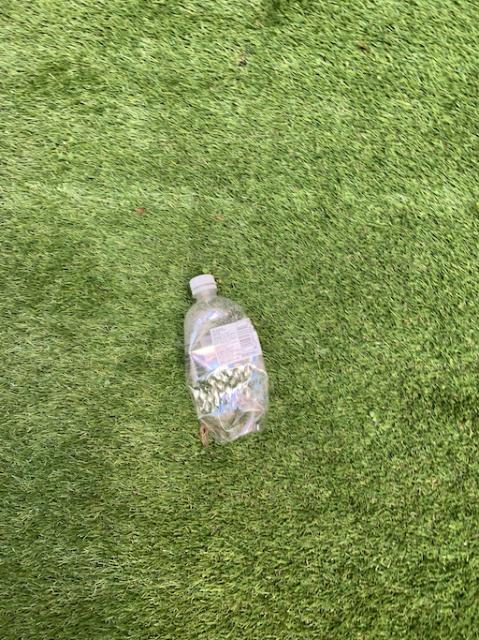plastic: (184, 274, 267, 445)
